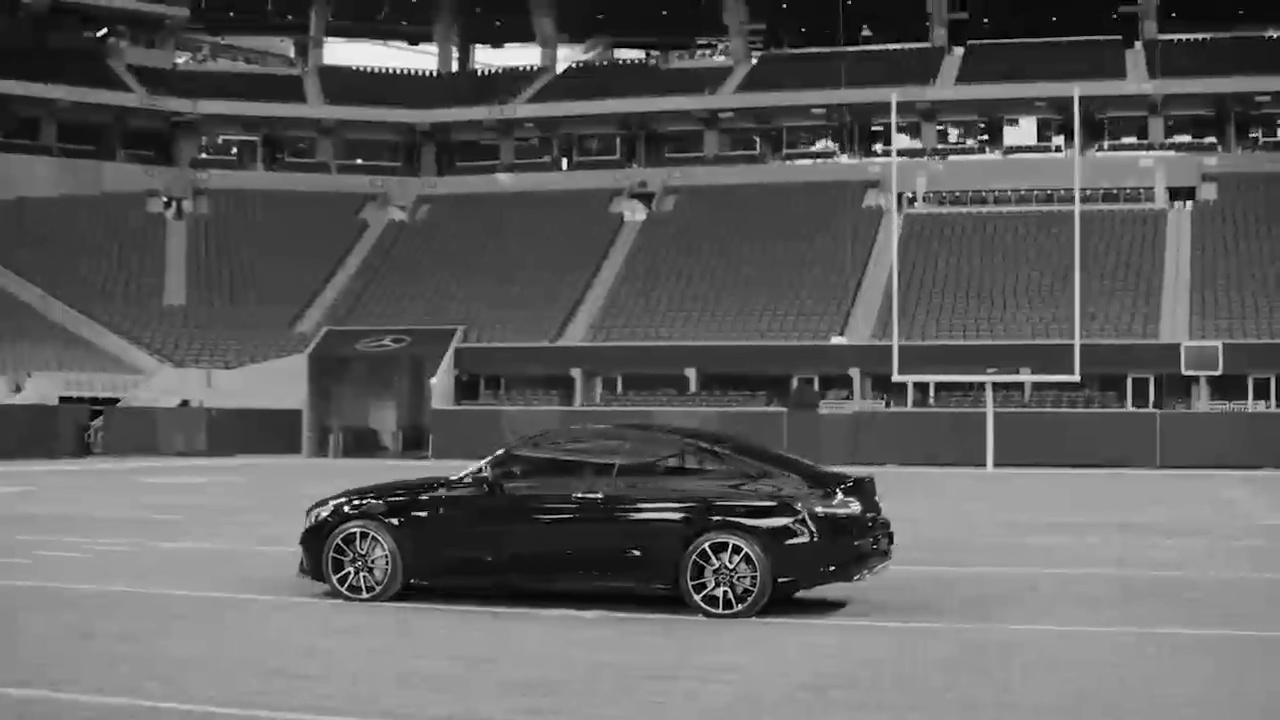car: (282, 416, 905, 621)
